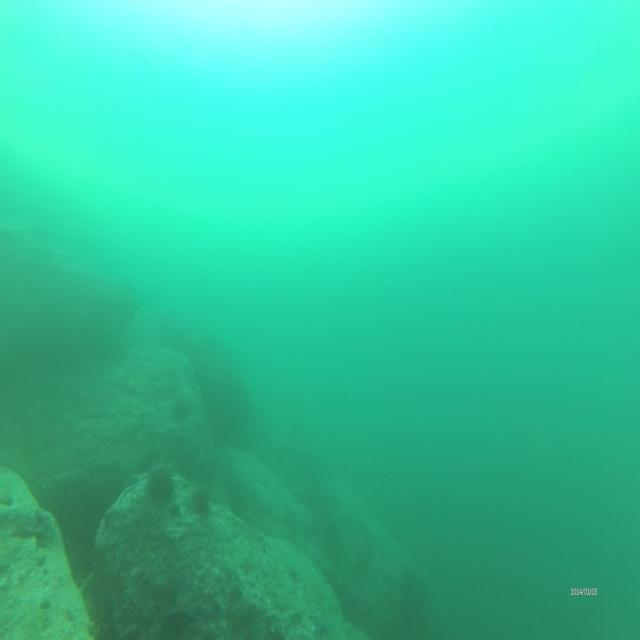echinus: (144, 459, 176, 500), (191, 481, 213, 515)
